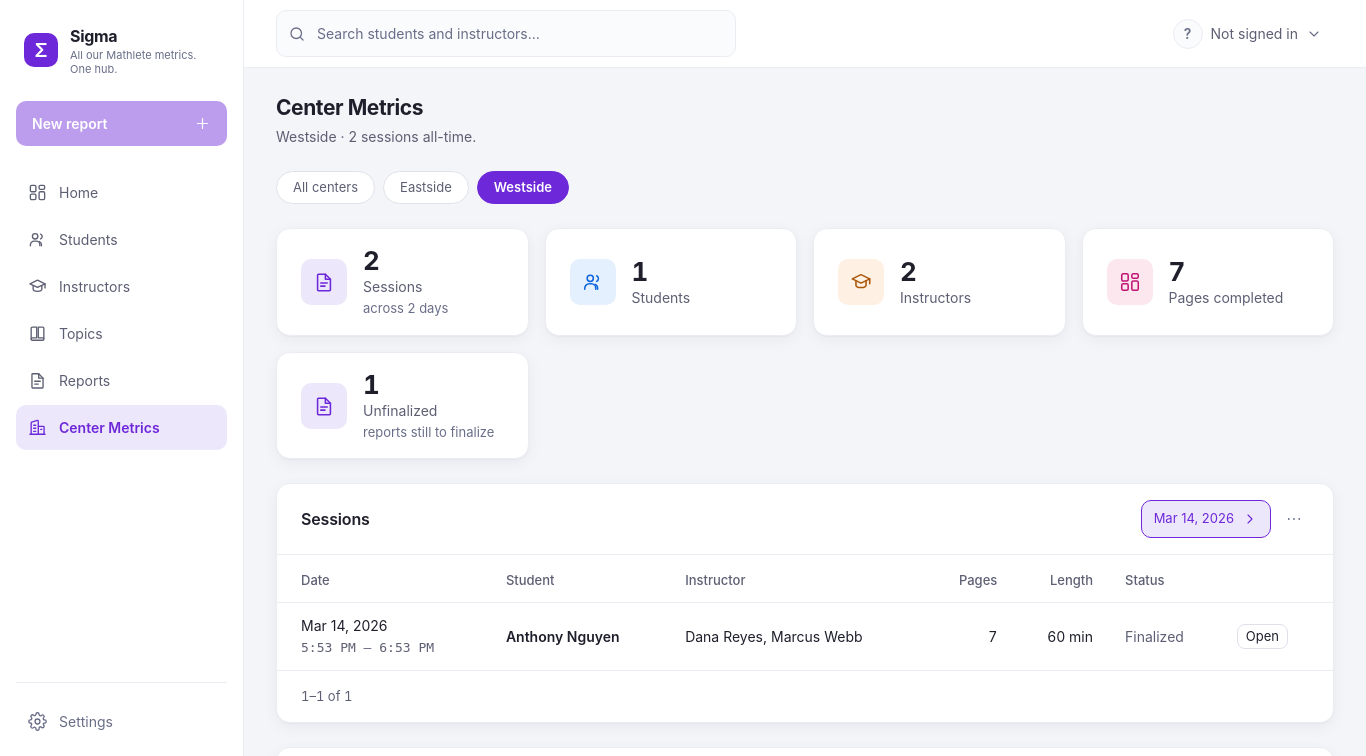
it: center metrics page › goes back to every center when the selection is cleared
Click the button "All centers": (326, 187) [276,170,375,204]
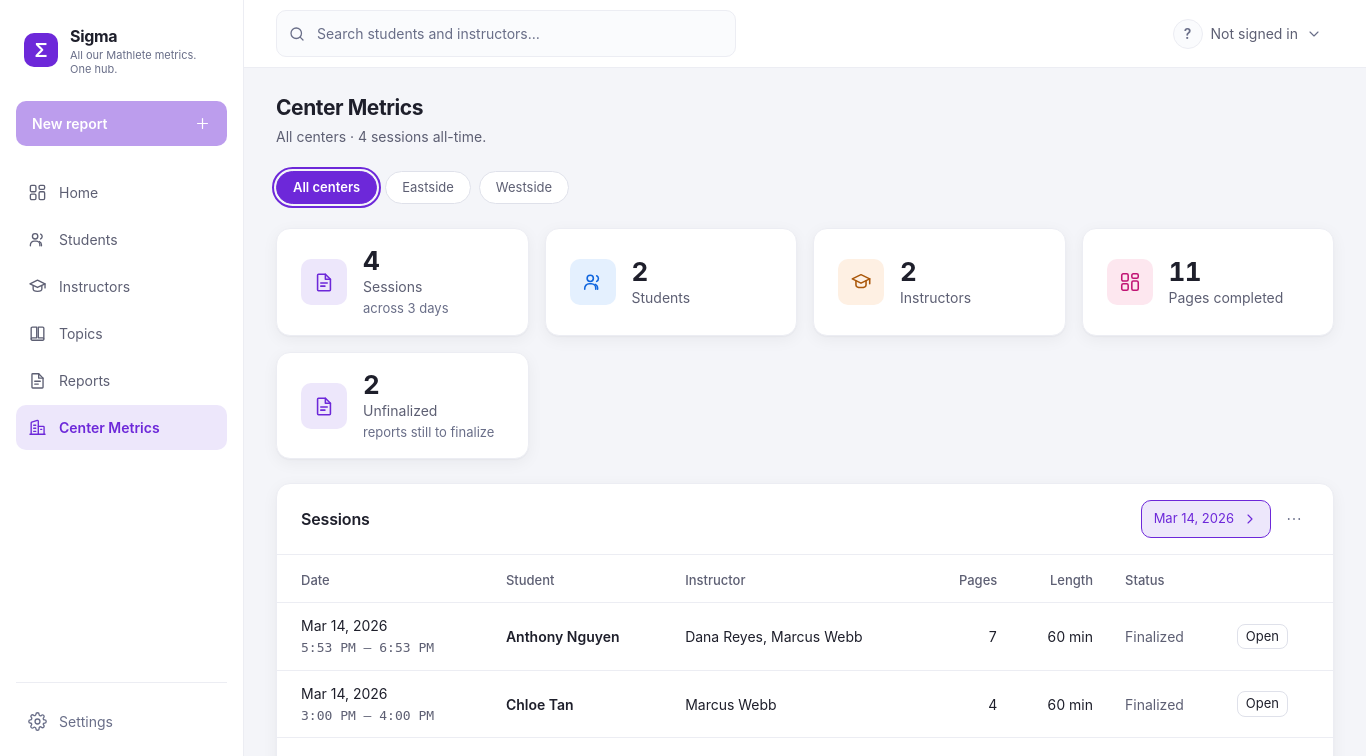
Result: the text "4" is shown at [363,245,379,276]
